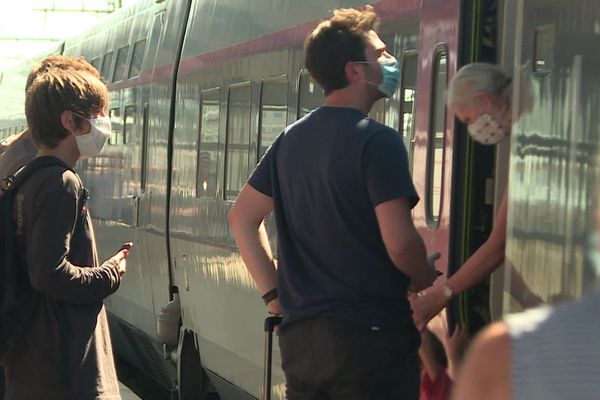with_mask: (343, 42, 402, 103), (56, 100, 112, 162), (448, 96, 510, 146)
